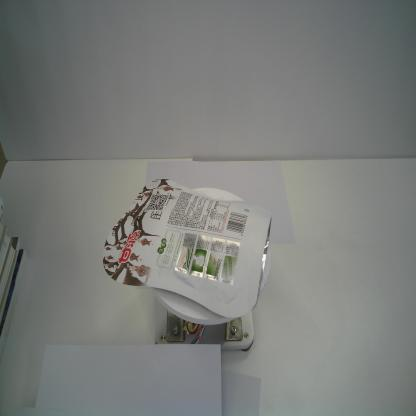Dried Fruit: (102, 178, 272, 318)
